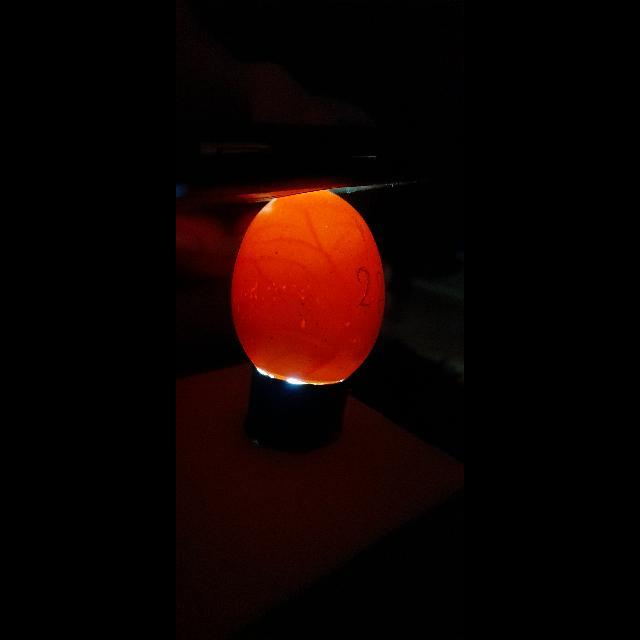Fertile: (228, 187, 386, 385)
